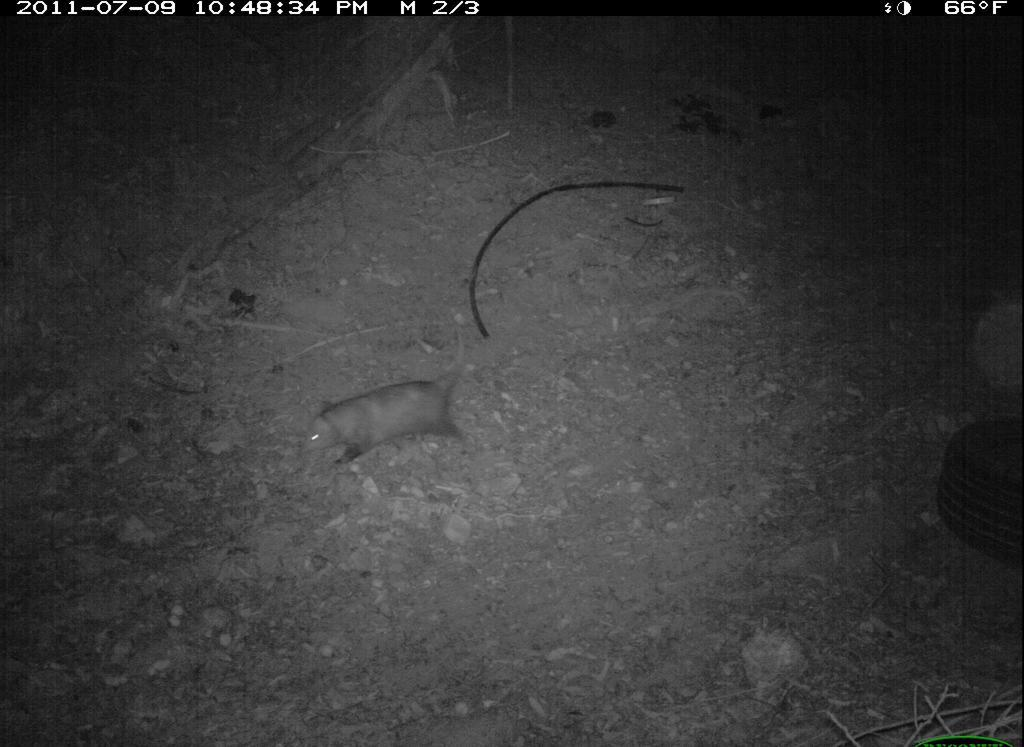opossum: (299, 333, 486, 477)
